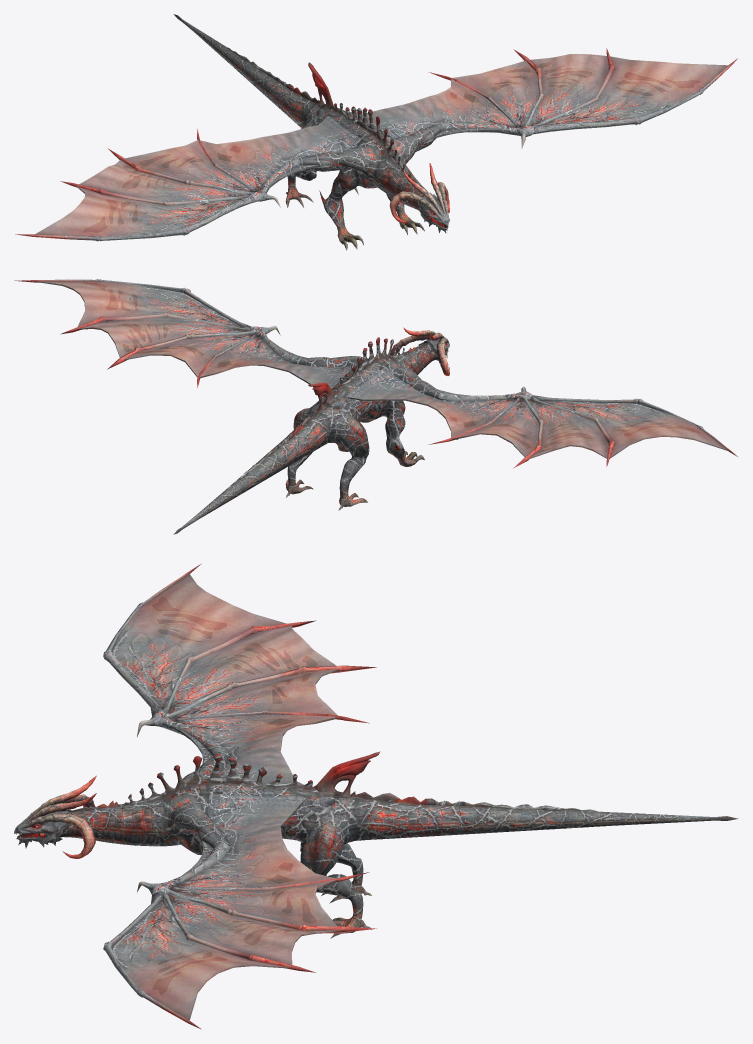
Rendered from dragon.obj.
3 views of the same model, one above another, from view 1: azimuth 30°, elevation 25°; view 2: azimuth 150°, elevation 25°; view 3: azimuth 270°, elevation 25° (orthographic). The views are drawn at different scales.
Parts seen in each view (by area): view 1: The_Immaculate_One_Wings.000_model_1_submesh_0_mesh0000, The_Immaculate_One_Wings.002_model_3_submesh_1_mesh0006, The_Immaculate_One_Body.002_model_3_submesh_2_mesh0007, The_Immaculate_One_Body.000_model_2_submesh_1_mesh0003, The_Immaculate_One_Wings.001_model_2_submesh_0_mesh0002, The_Immaculate_One_Head.002_model_3_submesh_3_mesh0008; view 2: The_Immaculate_One_Wings.000_model_1_submesh_0_mesh0000, The_Immaculate_One_Wings.002_model_3_submesh_1_mesh0006, The_Immaculate_One_Body.002_model_3_submesh_2_mesh0007, The_Immaculate_One_Body.000_model_2_submesh_1_mesh0003, The_Immaculate_One_Wings.001_model_2_submesh_0_mesh0002, The_Immaculate_One_Head.002_model_3_submesh_3_mesh0008; view 3: The_Immaculate_One_Wings.000_model_1_submesh_0_mesh0000, The_Immaculate_One_Wings.002_model_3_submesh_1_mesh0006, The_Immaculate_One_Body.002_model_3_submesh_2_mesh0007, The_Immaculate_One_Body.000_model_2_submesh_1_mesh0003, The_Immaculate_One_Wings.001_model_2_submesh_0_mesh0002, The_Immaculate_One_Head.002_model_3_submesh_3_mesh0008, The_Immaculate_One_Body.001_model_2_submesh_2_mesh0004.
Part boxes in pixels (<box>): The_Immaculate_One_Wings.000_model_1_submesh_0_mesh0000: <box>15,48,737,241</box>; The_Immaculate_One_Wings.002_model_3_submesh_1_mesh0006: <box>350,54,727,138</box>; The_Immaculate_One_Body.002_model_3_submesh_2_mesh0007: <box>173,14,442,250</box>; The_Immaculate_One_Body.000_model_2_submesh_1_mesh0003: <box>175,15,443,245</box>; The_Immaculate_One_Wings.001_model_2_submesh_0_mesh0002: <box>349,55,689,137</box>; The_Immaculate_One_Head.002_model_3_submesh_3_mesh0008: <box>389,163,449,233</box>; The_Immaculate_One_Wings.000_model_1_submesh_0_mesh0000: <box>14,279,737,468</box>; The_Immaculate_One_Wings.002_model_3_submesh_1_mesh0006: <box>34,281,357,384</box>; The_Immaculate_One_Body.002_model_3_submesh_2_mesh0007: <box>173,337,442,534</box>; The_Immaculate_One_Body.000_model_2_submesh_1_mesh0003: <box>178,337,440,531</box>; The_Immaculate_One_Wings.001_model_2_submesh_0_mesh0002: <box>79,282,355,388</box>; The_Immaculate_One_Head.002_model_3_submesh_3_mesh0008: <box>403,327,449,375</box>; The_Immaculate_One_Wings.000_model_1_submesh_0_mesh0000: <box>103,563,376,1029</box>; The_Immaculate_One_Wings.002_model_3_submesh_1_mesh0006: <box>112,794,338,1020</box>; The_Immaculate_One_Body.002_model_3_submesh_2_mesh0007: <box>60,750,738,938</box>; The_Immaculate_One_Body.000_model_2_submesh_1_mesh0003: <box>64,751,726,935</box>; The_Immaculate_One_Wings.001_model_2_submesh_0_mesh0002: <box>112,794,324,983</box>; The_Immaculate_One_Head.002_model_3_submesh_3_mesh0008: <box>14,793,96,848</box>; The_Immaculate_One_Body.001_model_2_submesh_2_mesh0004: <box>15,775,96,858</box>.
Size of the model in its own units: 81.91 by 13.31 by 53.76.
3 materials, 3 textured.
